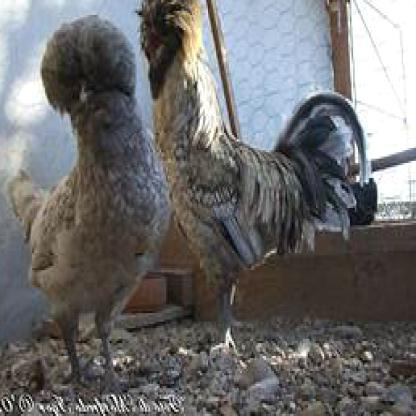chicken: (134, 0, 371, 354), (5, 13, 172, 390)
